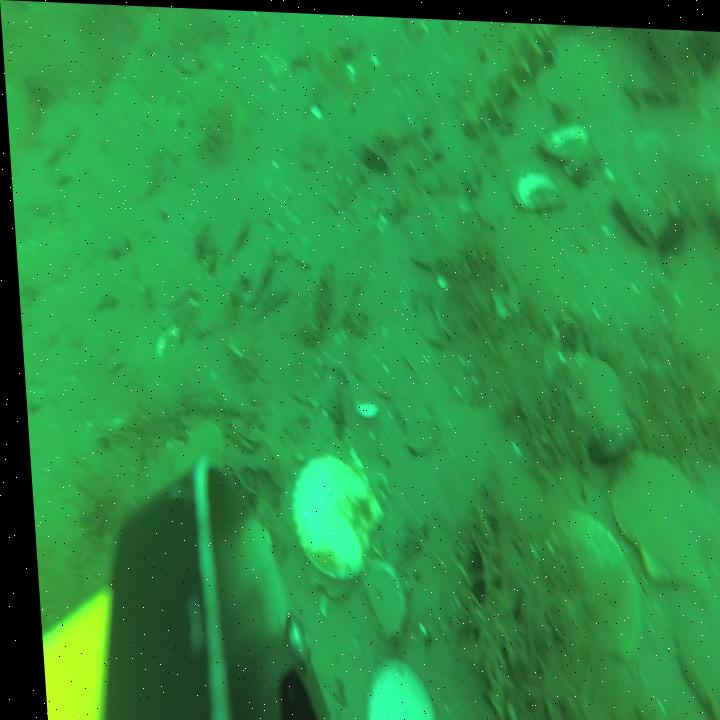holothurian: (450, 17, 566, 139)
scallop: (600, 438, 705, 588), (546, 505, 638, 664), (282, 455, 375, 584), (551, 346, 625, 439), (351, 653, 426, 720)
